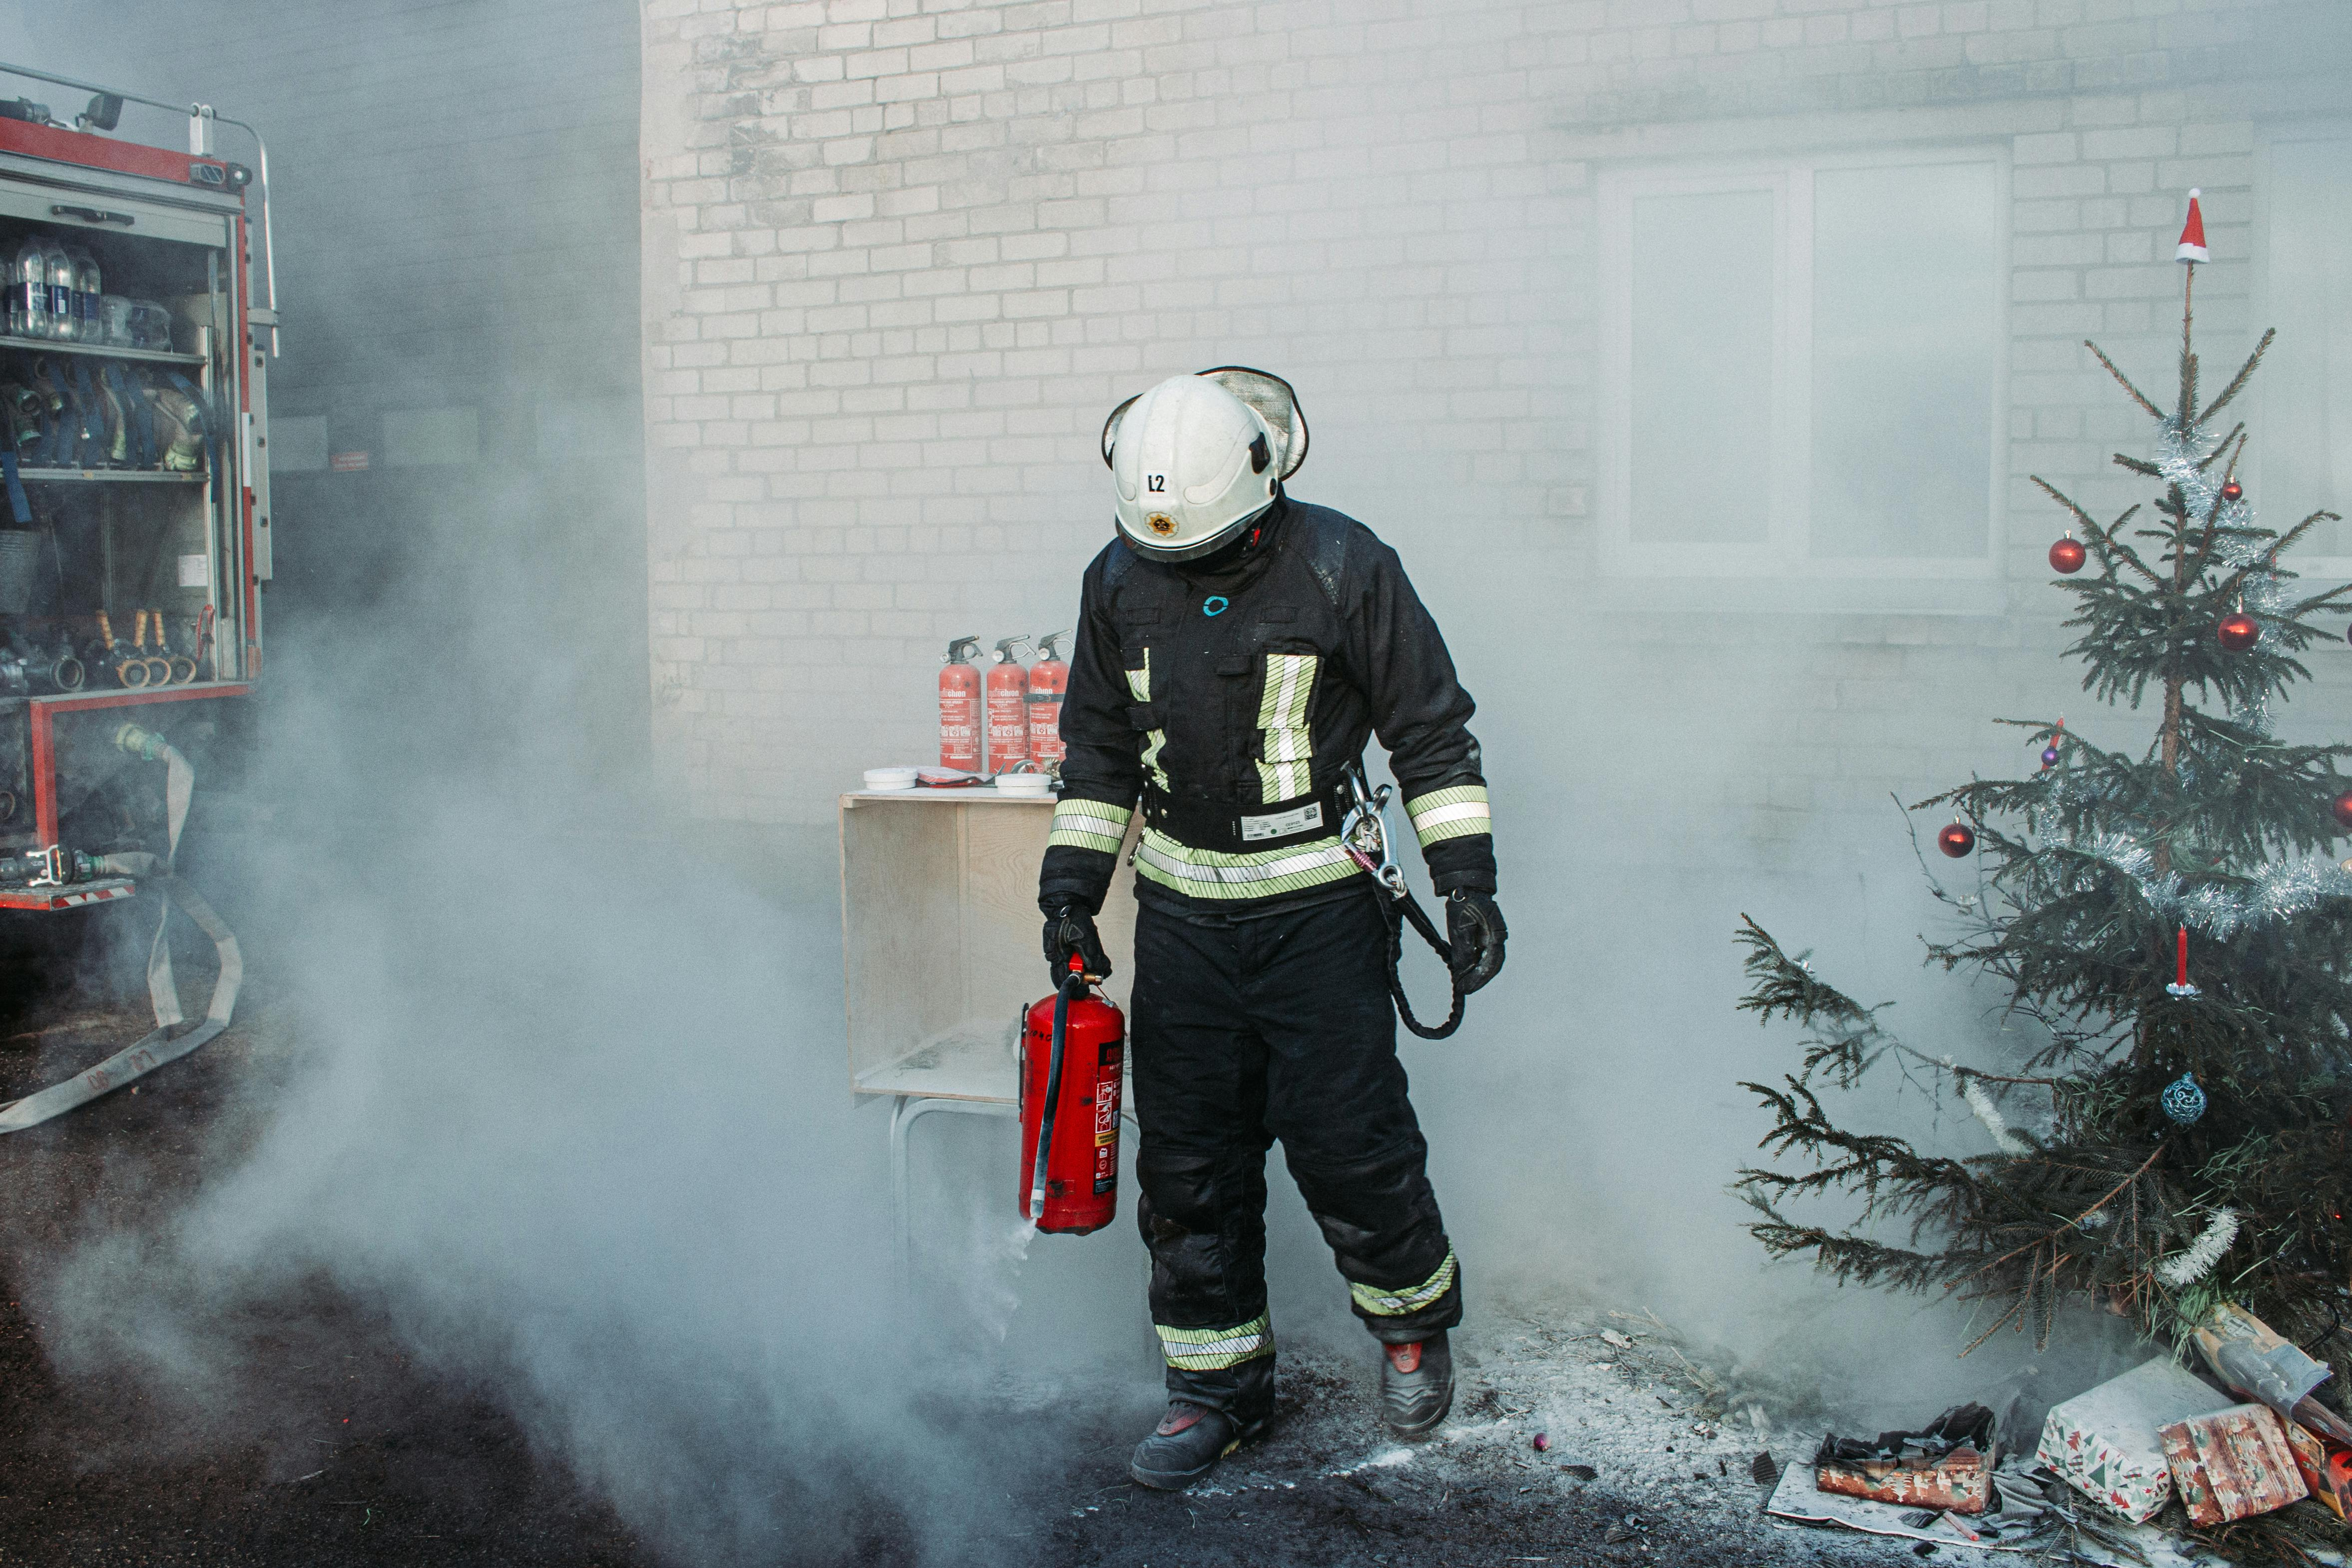extintor: (996, 947, 1139, 1249)
